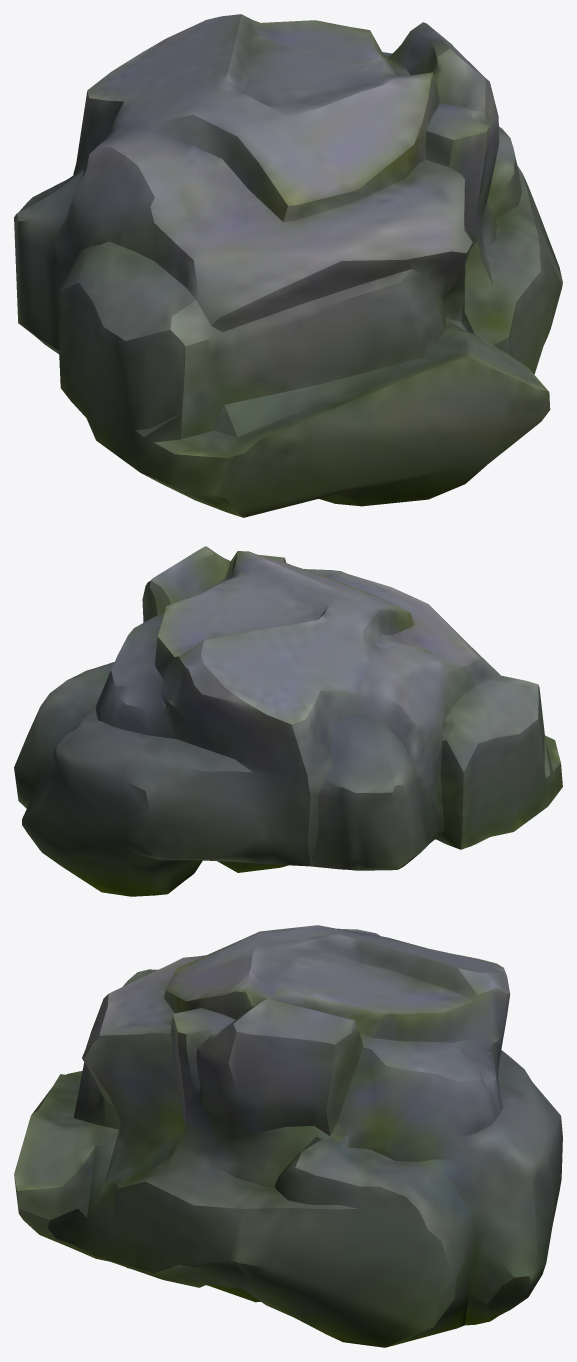
Rendered from rock_big_2.glb.
The picture shows the model from 3 angles, top to bottom: view 1: azimuth 30°, elevation 25°; view 2: azimuth 150°, elevation 25°; view 3: azimuth 270°, elevation 25°; orthographic projection. The views are drawn at different scales.
Visible parts, largest first — view 1: Rock_Big_2; view 2: Rock_Big_2; view 3: Rock_Big_2.
Boxes of the visible parts, x1,y1,x2,y2 form: Rock_Big_2: (14, 14, 562, 517); Rock_Big_2: (14, 546, 562, 896); Rock_Big_2: (14, 925, 562, 1347).
Size of the model in its own units: 5.77 by 3.81 by 5.82.
Materials: 1 (1 with a texture image).
